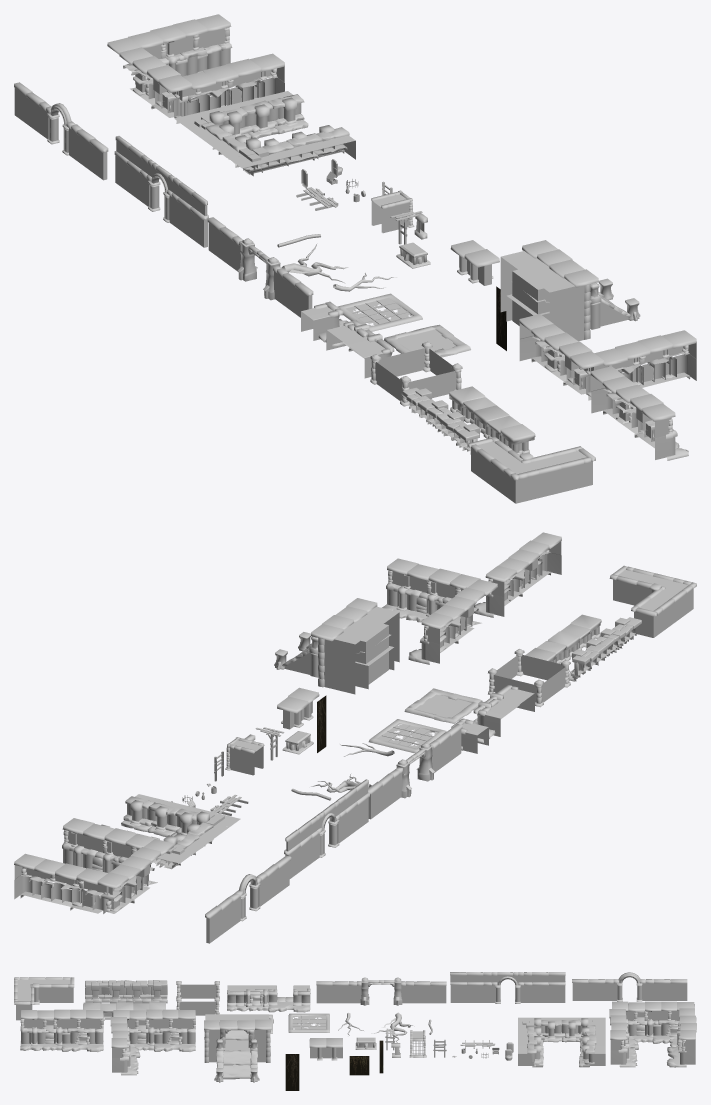
File: DungeonBlend.fbx
The picture shows the model from 3 angles, top to bottom: view 1: azimuth 30°, elevation 25°; view 2: azimuth 150°, elevation 25°; view 3: azimuth 270°, elevation 25°; orthographic projection. The views are drawn at different scales.
Visible parts, largest first — view 1: polySurface2071, polySurface3106, polySurface1787, polySurface1948, polySurface2617, polySurface2972, polySurface1138, polySurface1468, polySurface3133, polySurface3753, polySurface3382, polySurface1234 (+6 smaller); view 2: polySurface2071, polySurface3106, polySurface1948, polySurface1787, polySurface2617, polySurface2972, polySurface1138, polySurface1468, polySurface3133, polySurface3753, polySurface3382, polySurface263 (+6 smaller); view 3: polySurface2071, polySurface1948, polySurface3106, polySurface1787, polySurface1138, polySurface2972, polySurface1468, polySurface3133, polySurface3382, polySurface263, polySurface2617, polySurface3753 (+9 smaller).
Part boxes in pixels (box(x1,y1,x2,y2)): polySurface2071: box(107, 14, 284, 123); polySurface3106: box(500, 240, 640, 341); polySurface1787: box(174, 91, 355, 176); polySurface1948: box(519, 314, 696, 400); polySurface2617: box(468, 437, 595, 503); polySurface2972: box(114, 136, 208, 247); polySurface1138: box(590, 366, 688, 460); polySurface1468: box(207, 217, 313, 317); polySurface3133: box(14, 82, 108, 180); polySurface3753: box(370, 341, 462, 406); polySurface3382: box(301, 301, 394, 378); polySurface1234: box(449, 386, 535, 454); polySurface2071: box(14, 818, 173, 913); polySurface3106: box(274, 598, 399, 694); polySurface1948: box(382, 558, 497, 664); polySurface1787: box(101, 794, 240, 869); polySurface2617: box(609, 565, 696, 637); polySurface2972: box(284, 779, 369, 878); polySurface1138: box(474, 532, 561, 617); polySurface1468: box(368, 724, 462, 819); polySurface3133: box(205, 855, 291, 943); polySurface3753: box(488, 649, 570, 707); polySurface3382: box(451, 685, 534, 753); polySurface263: box(569, 617, 641, 681); polySurface2071: box(609, 1001, 696, 1067); polySurface1948: box(110, 1009, 195, 1075); polySurface3106: box(204, 1014, 271, 1082); polySurface1787: box(518, 1017, 605, 1067); polySurface1138: box(20, 1009, 103, 1052); polySurface2972: box(450, 972, 565, 1003); polySurface1468: box(316, 977, 446, 1005); polySurface3133: box(572, 972, 687, 1001); polySurface3382: box(227, 985, 310, 1012); polySurface263: box(85, 980, 167, 1003); polySurface2617: box(14, 977, 74, 1020); polySurface3753: box(176, 981, 219, 1015).
Bounding box in the file's own units: 51.49 × 19.48 × 166.
